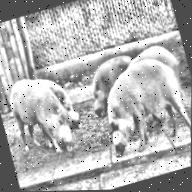boar: (87, 43, 192, 169), (3, 68, 80, 170), (74, 51, 120, 124), (47, 72, 90, 130)
